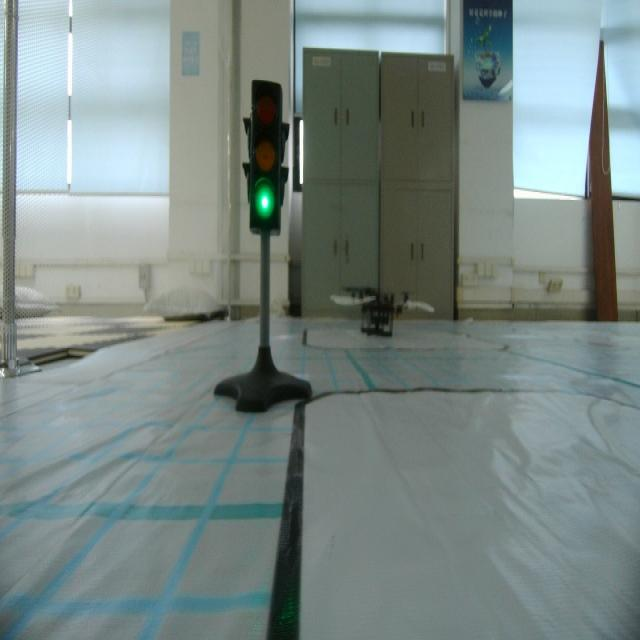green: (242, 69, 286, 252)
